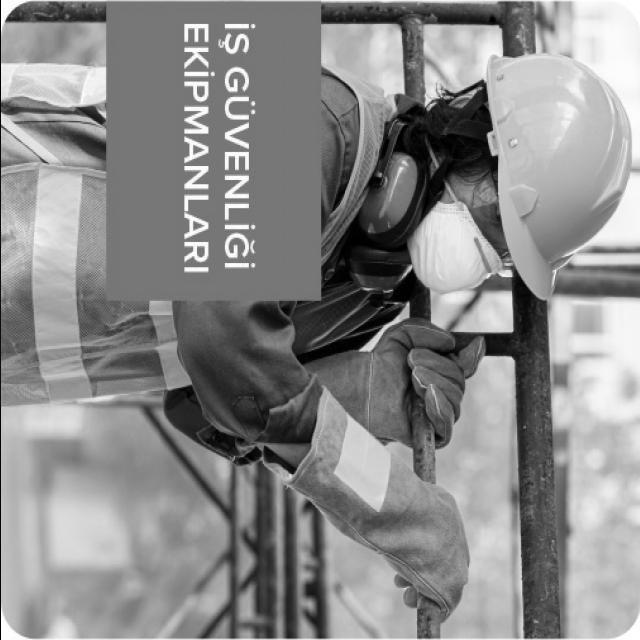safety_helmet: (481, 53, 629, 300)
